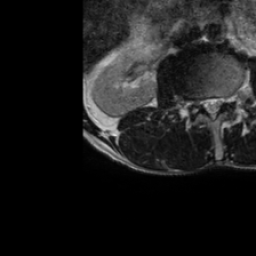CCS_normal: (208, 90, 215, 125)
LFS_stenosis: (223, 89, 232, 111)
LLS_normal: (215, 90, 223, 112)
RFS_stenosis: (193, 92, 200, 114)
RLS_normal: (200, 92, 208, 115)
